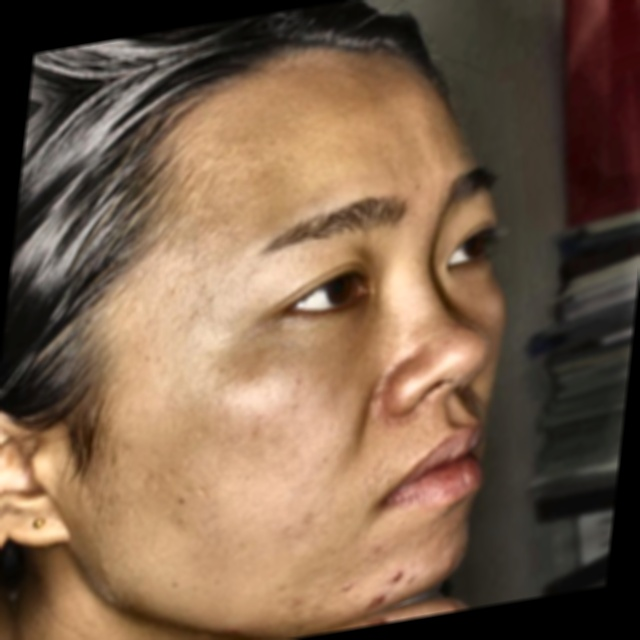comedone: (435, 546, 470, 585), (440, 588, 473, 614), (366, 582, 391, 613), (370, 612, 393, 626)
